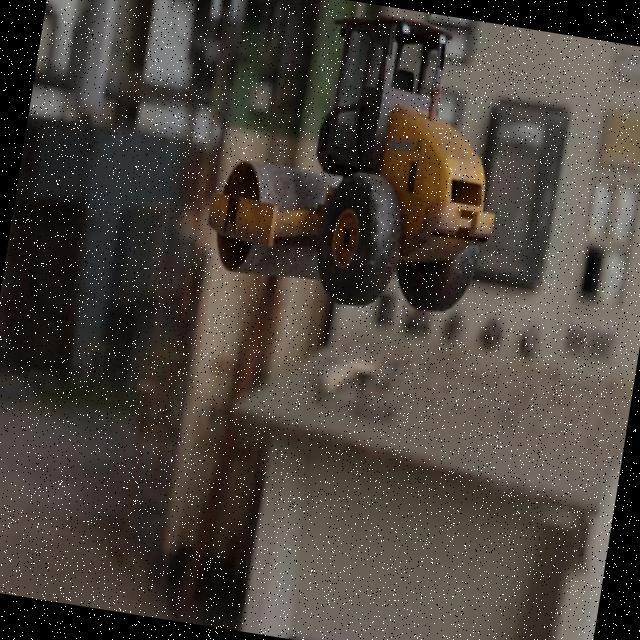Roller: (197, 0, 523, 327)
